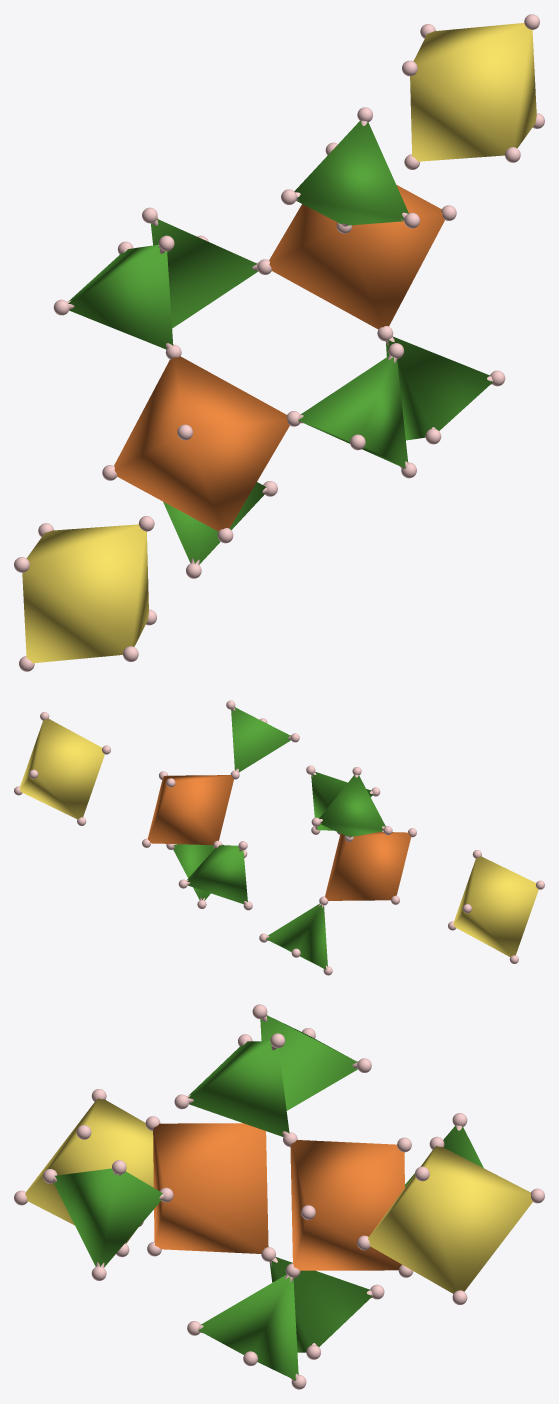
The model's file is HoEr(MoO4)3-rhombohedral-gnomea32845676f-p1.glb.
3 views of the same model, one above another, from view 1: azimuth 30°, elevation 25°; view 2: azimuth 150°, elevation 25°; view 3: azimuth 270°, elevation 25° (orthographic). The views are drawn at different scales.
Visible parts, largest first — view 1: HoEr(MoO4)3-R-3-gnomea32845676f-p1; view 2: HoEr(MoO4)3-R-3-gnomea32845676f-p1; view 3: HoEr(MoO4)3-R-3-gnomea32845676f-p1.
Part boxes in pixels (x1,y1,x2,y2): HoEr(MoO4)3-R-3-gnomea32845676f-p1: [14, 14, 544, 671]; HoEr(MoO4)3-R-3-gnomea32845676f-p1: [14, 700, 544, 975]; HoEr(MoO4)3-R-3-gnomea32845676f-p1: [14, 1004, 544, 1389].
Bounding box in the file's own units: 19.41 × 11.06 × 13.19.
